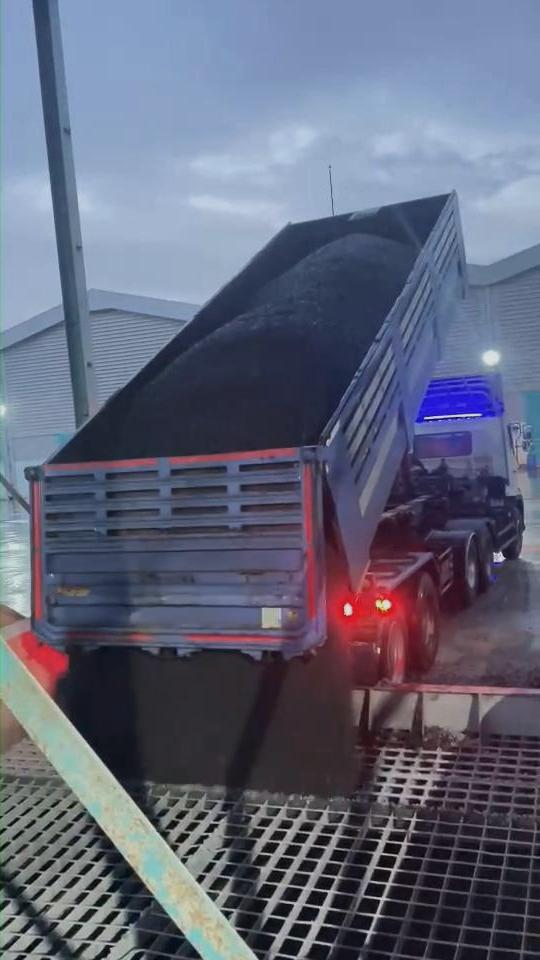gravel: (93, 233, 415, 458), (65, 625, 353, 794)
